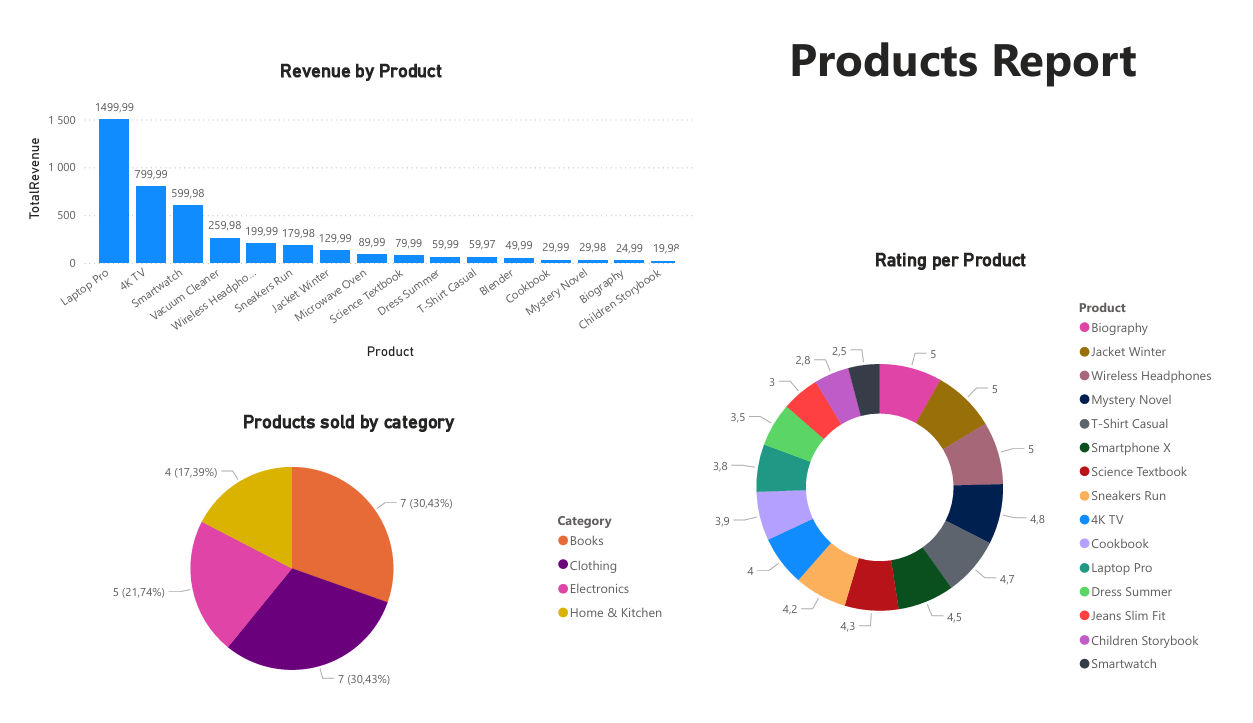

What the dashboard file says about the page in this screenshot:
{"tool":"powerbi","page":{"name":"Page 1","canvas":[1280,720],"ordinal":0},"visuals":[{"type":"pieChart","title":"Products sold by category","fields":{"Category":["CATEGORIES.Name"],"Y":["Sum(ORDER_PRODUCTS.Quantity)"]},"box":[0,411.4,690,308.6],"z":1},{"type":"clusteredColumnChart","title":"Revenue by Product","fields":{"Category":["PRODUCTS.Name"],"Y":["ORDERS.TotalRevenue"]},"box":[0,40,715.7,320],"z":2},{"type":"donutChart","title":"Rating per Product","fields":{"Category":["PRODUCTS.Name"],"Y":["REVIEWS.AverageRatingPerProduct"]},"box":[690,240,580,480],"z":3},{"type":"textbox","box":[715.7,0,554.3,84.3],"z":4}]}

Visuals, with their boxes in screenshot pixels (x1, y1, x2, y2), scaled from the page's 1280x720 canvas onto the 1253x723 screenshot:
"Products sold by category" pieChart: left=0, top=413, right=675, bottom=722
"Revenue by Product" clusteredColumnChart: left=0, top=40, right=701, bottom=362
"Rating per Product" donutChart: left=675, top=241, right=1243, bottom=722
textbox: left=701, top=0, right=1243, bottom=85
